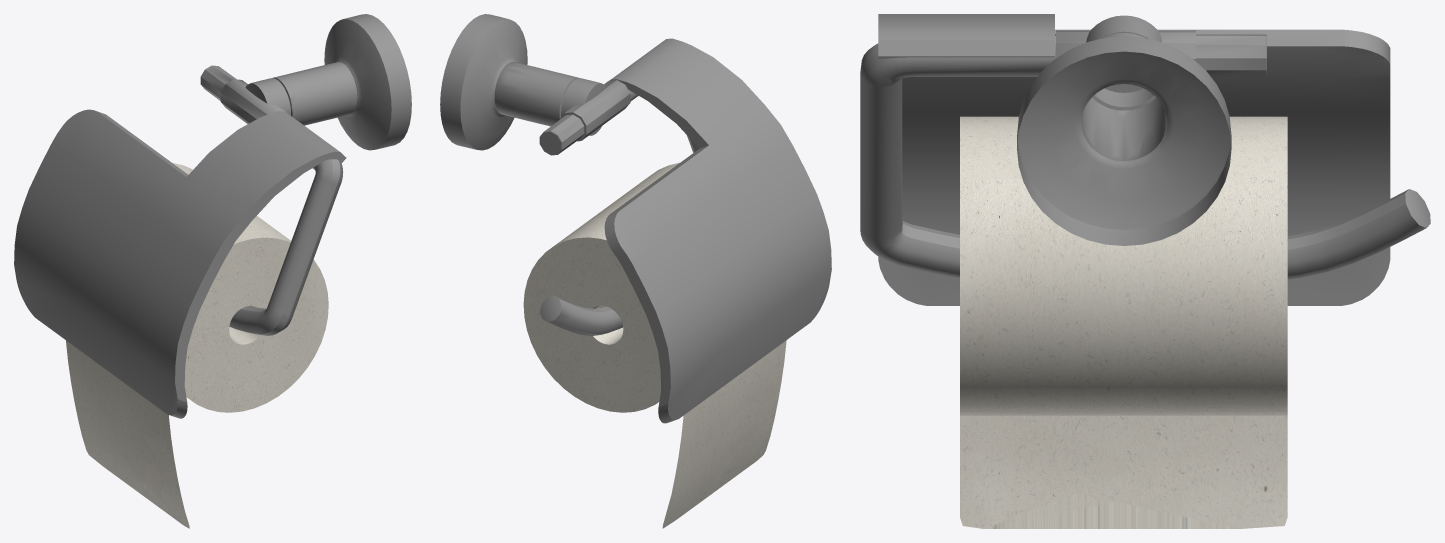
File: Paper holder.FBX
3 views of the same model, side by side, from view 1: azimuth 30°, elevation 25°; view 2: azimuth 150°, elevation 25°; view 3: azimuth 270°, elevation 25° (orthographic). The views are drawn at different scales.
Parts seen in each view (by area): view 1: Paper holder; view 2: Paper holder; view 3: Paper holder.
Boxes of the visible parts, x1=… form: Paper holder: x1=14, y1=14, x2=411, y2=528; Paper holder: x1=440, y1=14, x2=831, y2=528; Paper holder: x1=860, y1=14, x2=1430, y2=528.
Bounding box in the file's own units: 154 × 218 × 170.
2 materials, 1 textured.
